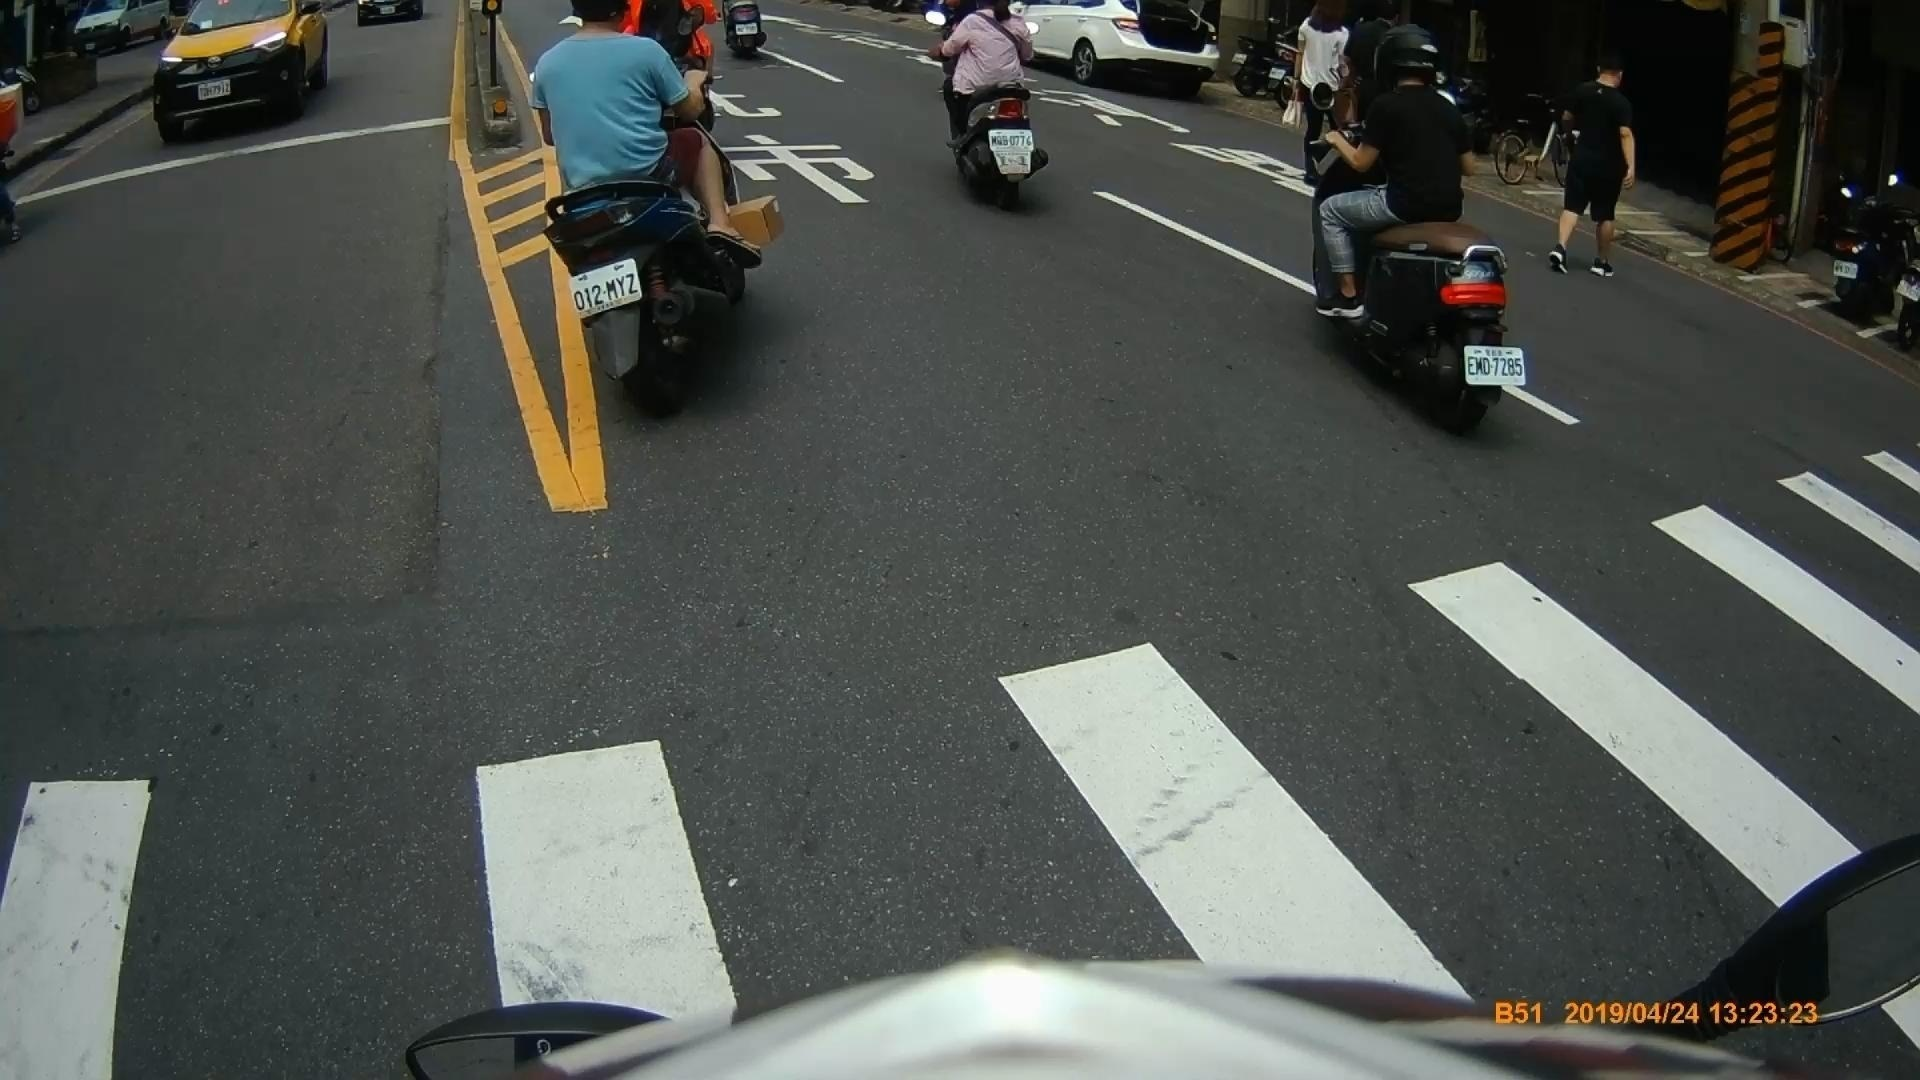License_plate: (570, 259, 644, 308), (1461, 340, 1533, 389), (986, 128, 1038, 154)
